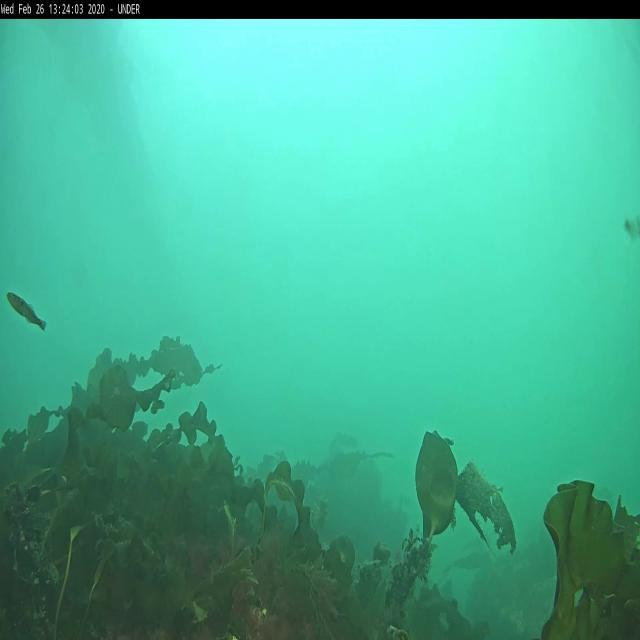fish: (6, 288, 47, 332)
